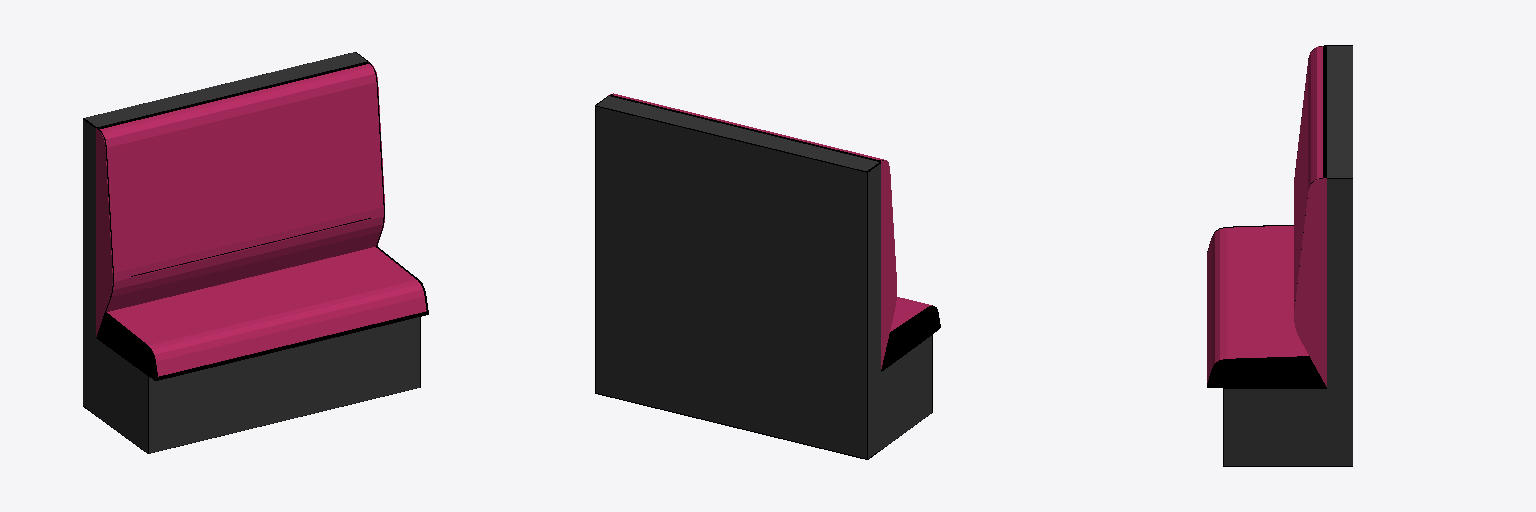
3 renders of one model, left to right at view 1: azimuth 30°, elevation 25°; view 2: azimuth 150°, elevation 25°; view 3: azimuth 270°, elevation 25°, orthographic.
Visible parts, largest first — view 1: Box003, Box004, Box001, Box002; view 2: Box002, Box001, Box003, Box004; view 3: Box004, Box002, Box003, Box001.
Boxes of the visible parts, x1,y1,x2,y2 form: Box003: [96, 61, 384, 336]; Box004: [96, 246, 428, 380]; Box001: [96, 317, 420, 453]; Box002: [83, 52, 367, 415]; Box002: [595, 96, 880, 459]; Box001: [881, 335, 932, 449]; Box003: [608, 93, 896, 368]; Box004: [881, 297, 940, 371]; Box004: [1207, 225, 1326, 387]; Box002: [1327, 45, 1352, 466]; Box003: [1294, 45, 1326, 386]; Box001: [1223, 388, 1326, 466].
Bounding box in the file's own units: 71.65 × 72.44 × 33.3.
Materials: 3 (3 with a texture image).